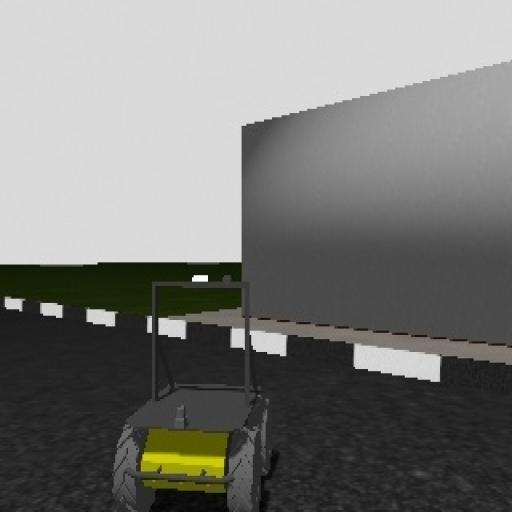huskya200: (99, 260, 282, 512)
